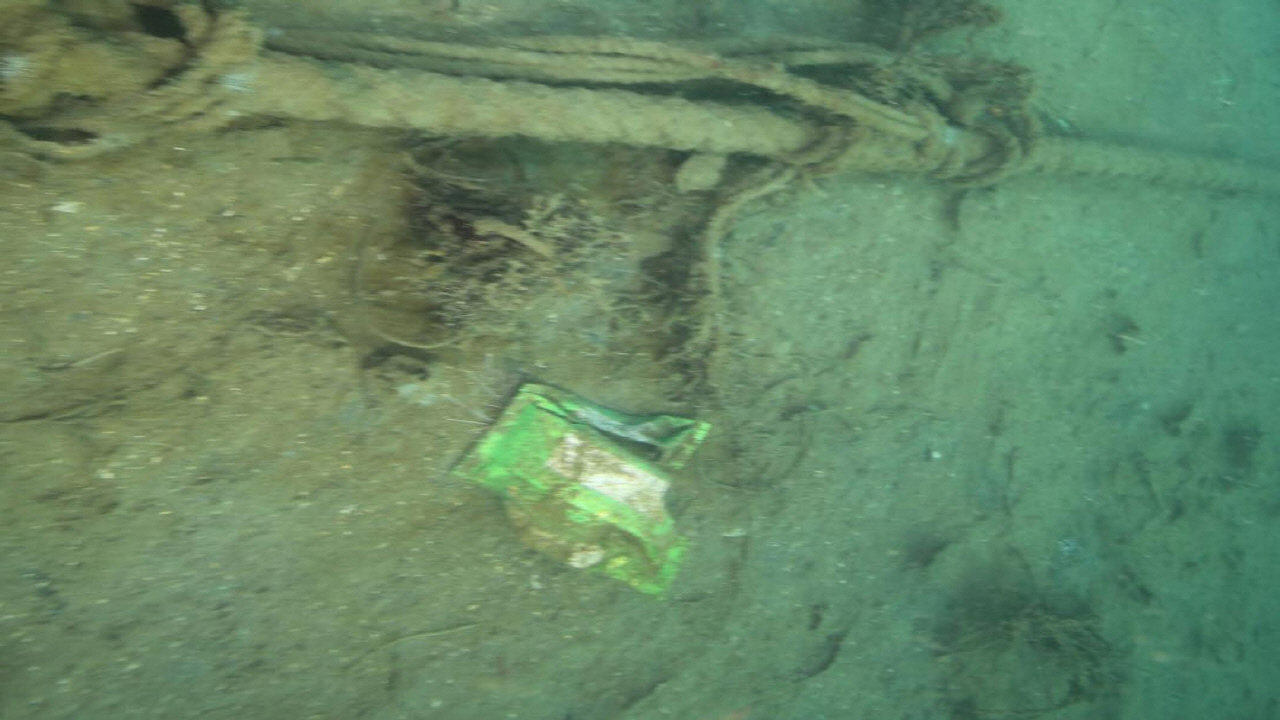bundle of ropes: (0, 0, 1280, 197)
